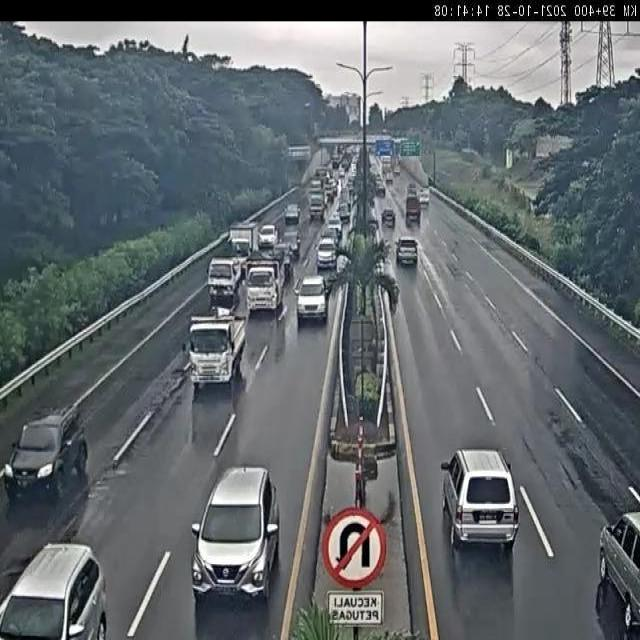Car: (190, 463, 278, 610), (5, 403, 91, 518), (441, 447, 517, 565), (183, 311, 247, 394), (298, 274, 327, 320)
Truck: (244, 248, 284, 308), (205, 256, 240, 301)
